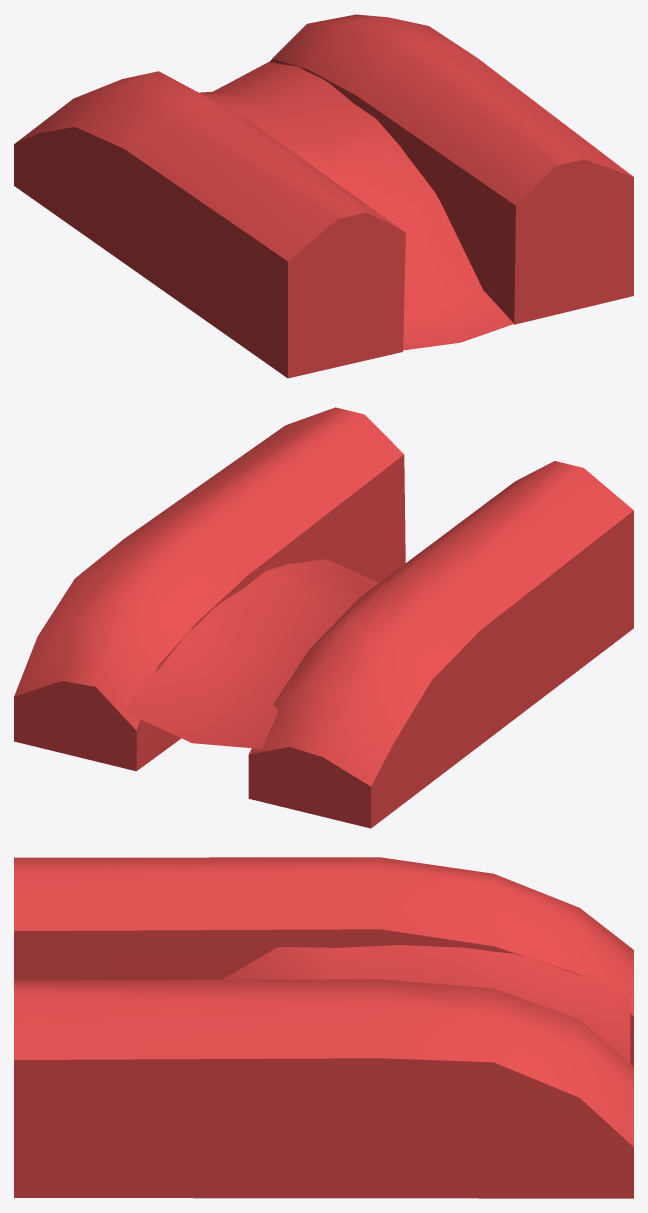
File: Ground_End_Ramp_COL.fbx
3 renders of one model, top to bottom at view 1: azimuth 30°, elevation 25°; view 2: azimuth 150°, elevation 25°; view 3: azimuth 270°, elevation 25°, orthographic. The views are drawn at different scales.
Visible parts, largest first — view 1: Ground_End_Ramp_COL; view 2: Ground_End_Ramp_COL; view 3: Ground_End_Ramp_COL.
Boxes of the visible parts, left/top/right/bottom form: Ground_End_Ramp_COL: left=14, top=14, right=633, bottom=378; Ground_End_Ramp_COL: left=14, top=407, right=633, bottom=828; Ground_End_Ramp_COL: left=14, top=857, right=633, bottom=1198.
Bounding box in the file's own units: 626 × 261 × 817.
